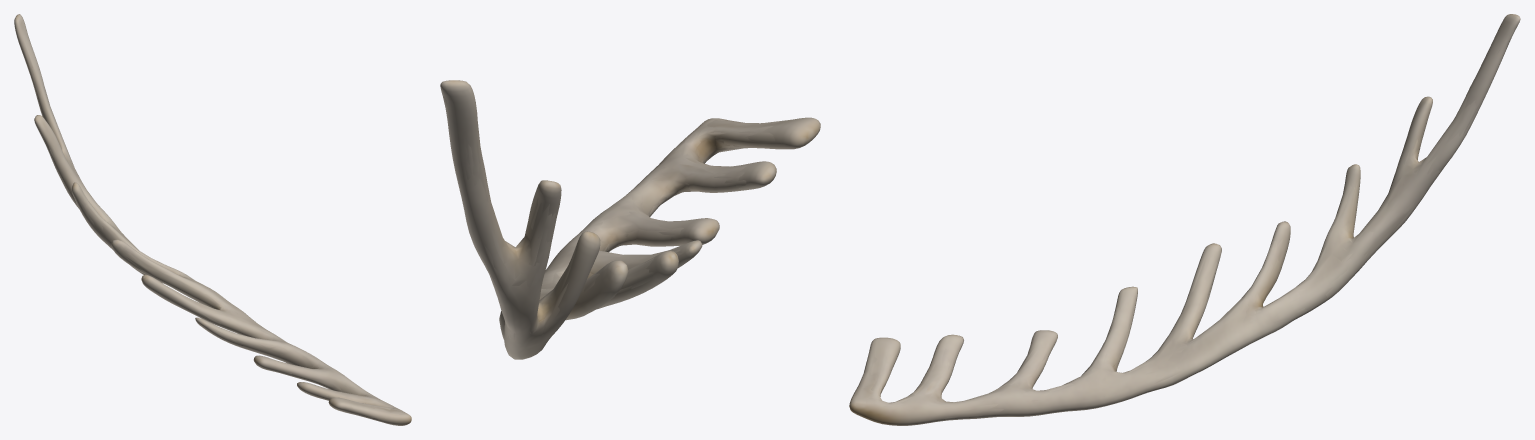
Rendered from Costal Cartilage Right.fbx.
3 views of the same model, side by side, from view 1: azimuth 30°, elevation 25°; view 2: azimuth 150°, elevation 25°; view 3: azimuth 270°, elevation 25° (orthographic). The views are drawn at different scales.
Visible parts, largest first — view 1: Costal Cartilage Right, Costal Cartilage Right low; view 2: Costal Cartilage Right, Costal Cartilage Right low; view 3: Costal Cartilage Right, Costal Cartilage Right low.
Boxes of the visible parts, bbox=[...] form: Costal Cartilage Right: bbox=[14, 14, 411, 425]; Costal Cartilage Right low: bbox=[20, 29, 403, 419]; Costal Cartilage Right: bbox=[440, 80, 820, 359]; Costal Cartilage Right low: bbox=[443, 96, 791, 339]; Costal Cartilage Right: bbox=[849, 14, 1520, 425]; Costal Cartilage Right low: bbox=[855, 25, 1515, 421].
Bounding box in the file's own units: 7.75 × 12.43 × 22.91.
Materials: 1 (1 with a texture image).
